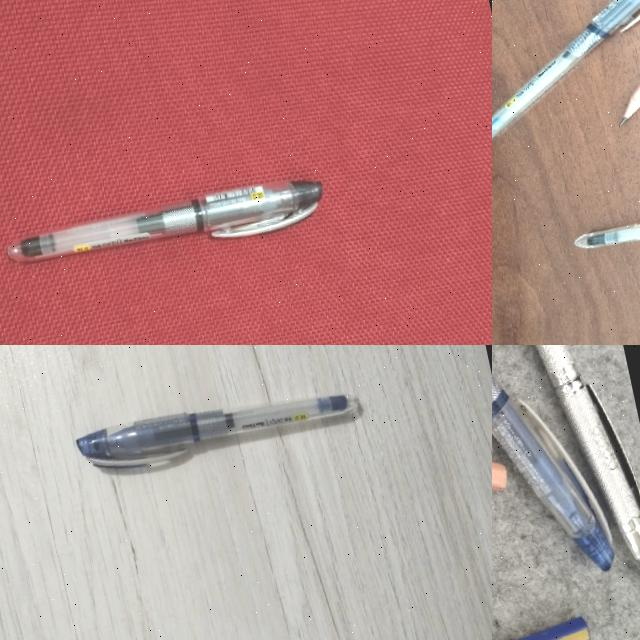pen: (8, 181, 321, 262), (492, 375, 613, 569), (76, 395, 357, 468), (492, 0, 640, 138), (575, 162, 640, 259)
signature pen: (492, 345, 640, 600)
